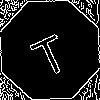T: (25, 25, 72, 79)
